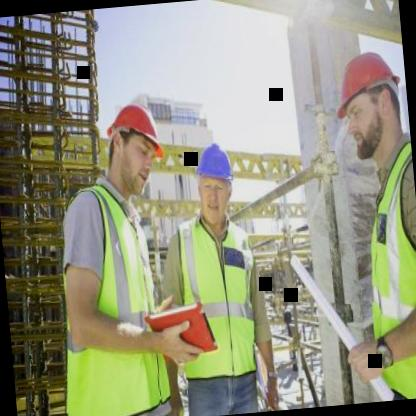helmet: (327, 43, 410, 164), (97, 90, 170, 195), (189, 131, 244, 237)
